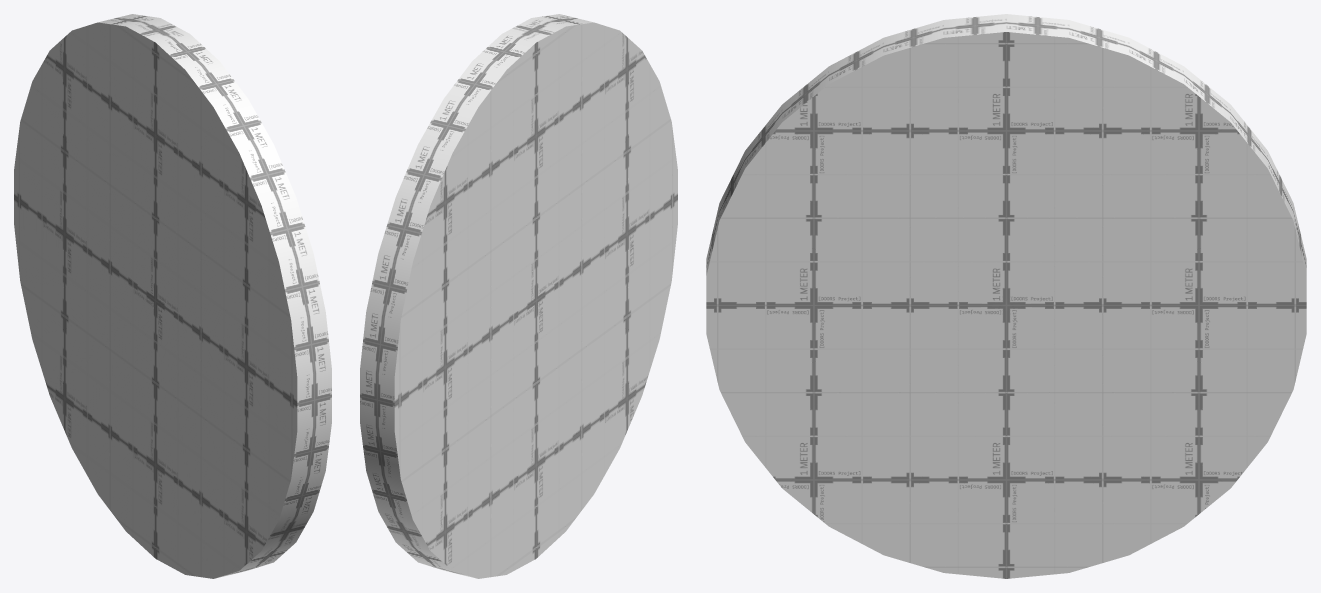
Rendered from SlideRotateDoor.obj.
The picture shows the model from 3 angles, left to right: view 1: azimuth 30°, elevation 25°; view 2: azimuth 150°, elevation 25°; view 3: azimuth 270°, elevation 25°; orthographic projection. The views are drawn at different scales.
Visible parts, largest first — view 1: SlideRotateDoor; view 2: SlideRotateDoor; view 3: SlideRotateDoor.
Part boxes in pixels (x1,y1,x2,y2): SlideRotateDoor: (14,14,331,578); SlideRotateDoor: (360,14,677,578); SlideRotateDoor: (706,14,1306,578).
Size of the model in its own units: 0.2201 by 3.13 by 3.12.
